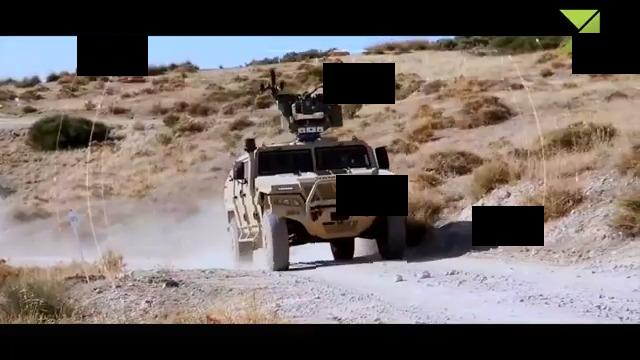MIL_HMMWV: (223, 134, 408, 273)
